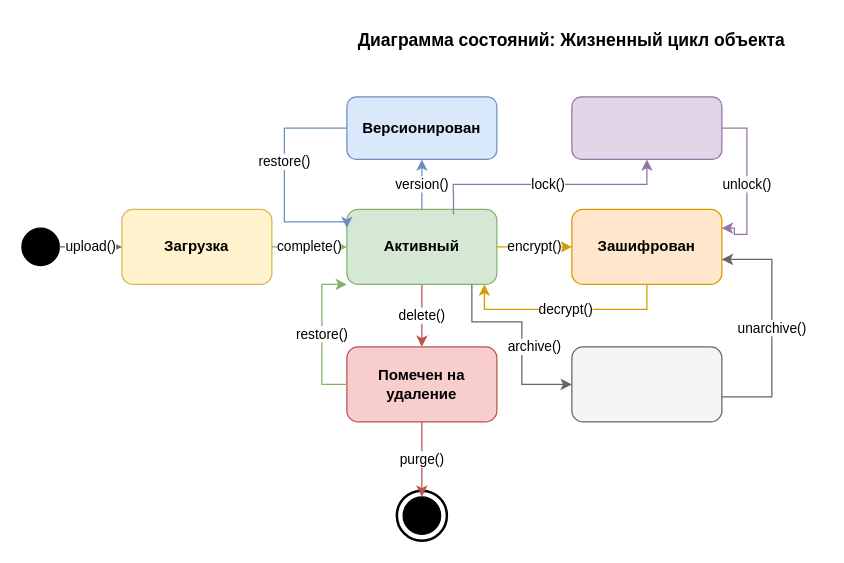
The diagram is 844 pixels wide and 563 high, and some of its shapes have lost their labels. The centre of each missing label's shape, as x and y in pixels:
В архиве: the point at 646,384
Заблокирован: the point at 646,127
